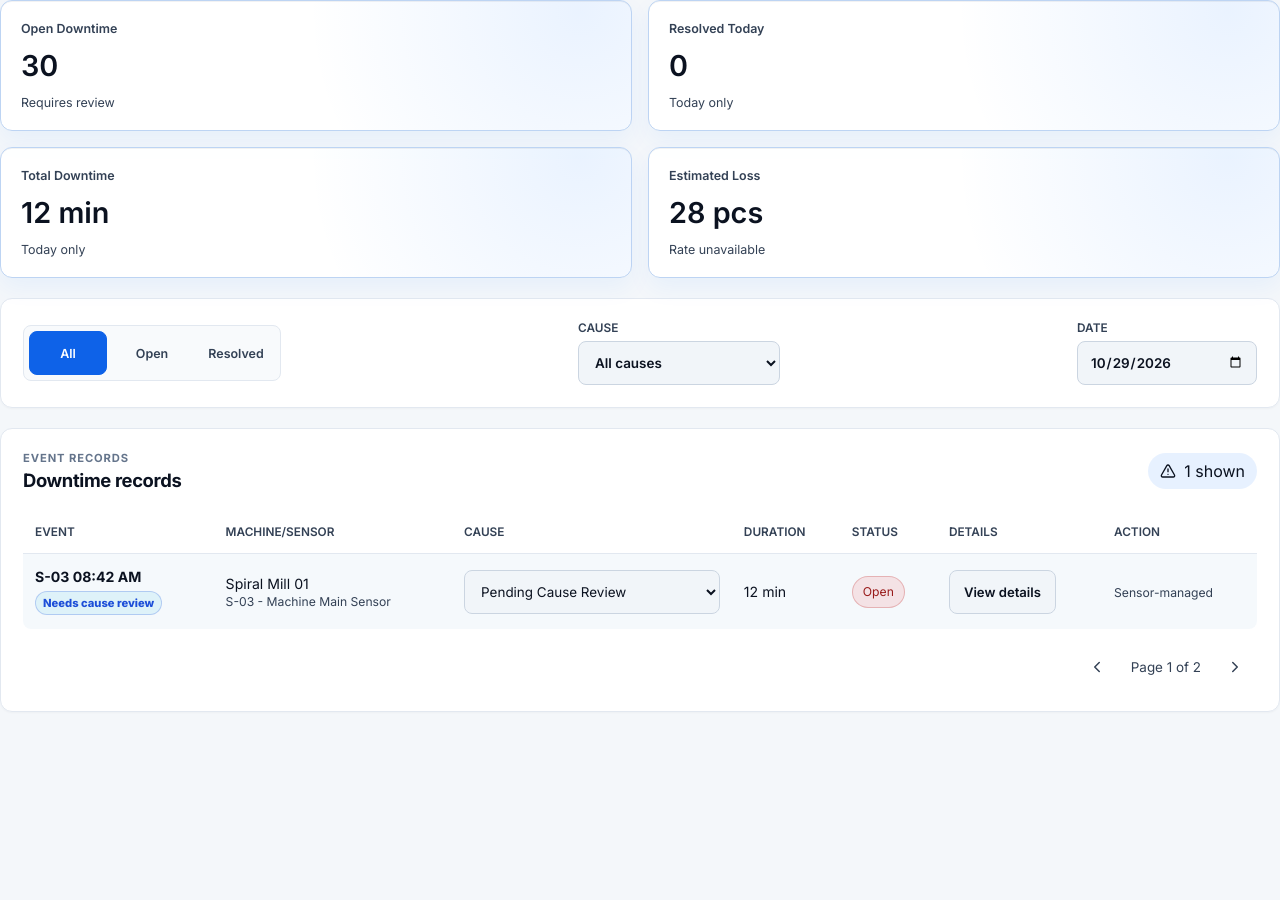
Test case: DowntimeSection › loads additional downtime pages through backend pagination
The image size is (1280, 900).
Step 1. Click the button named "Next downtime page" → click(1235, 667), box [1213, 645, 1257, 689]
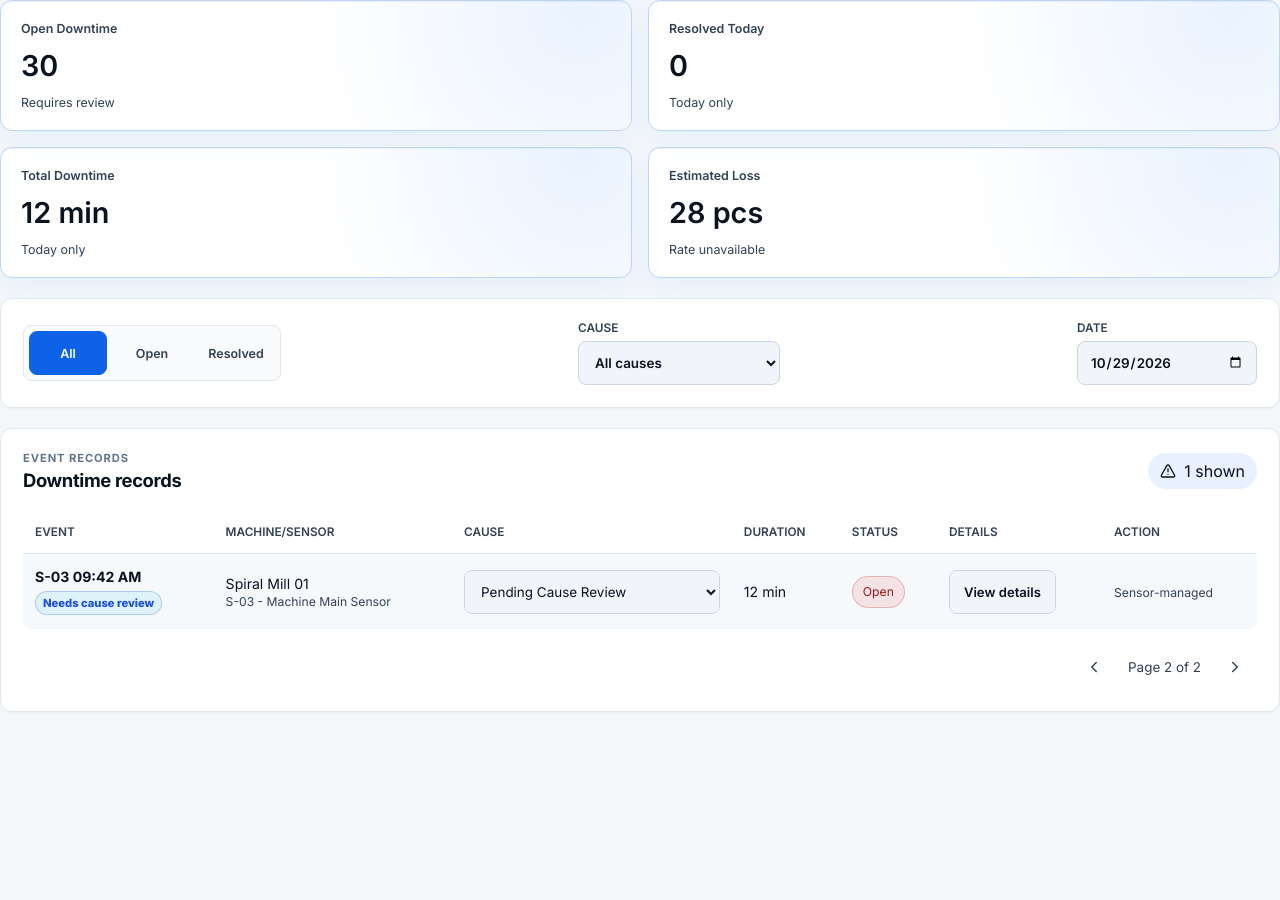
Check: the text "S-03 09:42 AM" is shown, box [35, 568, 141, 585]
